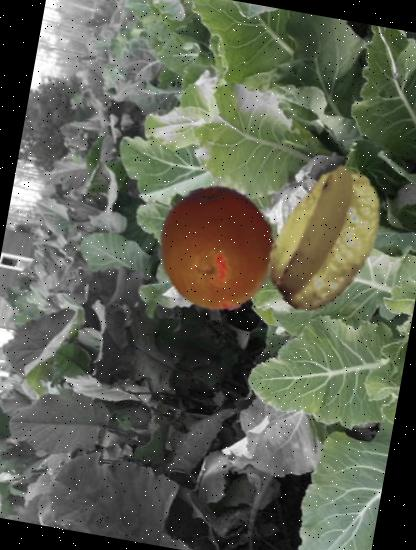Carambula: (241, 154, 414, 327)
Tangelo: (144, 175, 290, 322)
